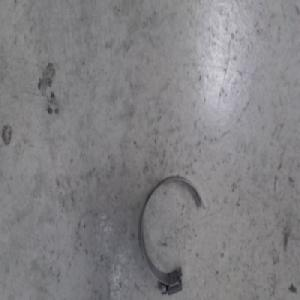AdjustableClamp: (138, 172, 205, 292)
